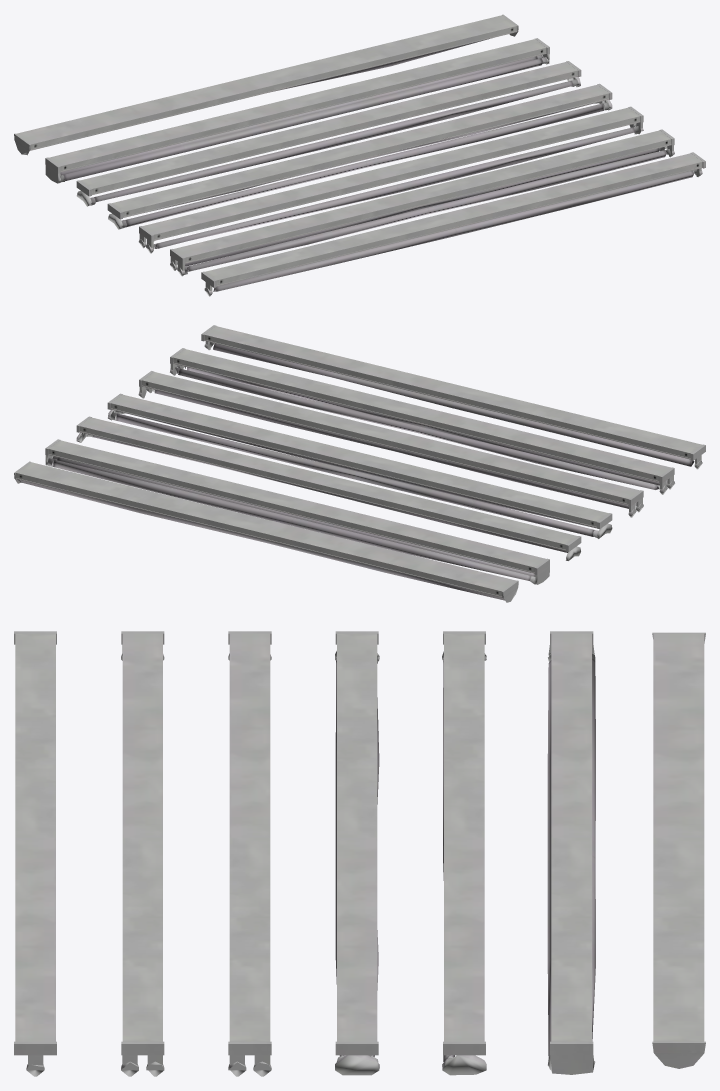
File: fluorescent.glb
3 views of the same model, one above another, from view 1: azimuth 30°, elevation 25°; view 2: azimuth 150°, elevation 25°; view 3: azimuth 270°, elevation 25° (orthographic). The views are drawn at different scales.
Visible parts, largest first — view 1: mounted_fluorescent_lights_b, mounted_fluorescent_lights_f, mounted_fluorescent_lights_d, mounted_fluorescent_lights_e, mounted_fluorescent_lights_c, mounted_fluorescent_lights_a, mounted_fluorescent_lights_g; view 2: mounted_fluorescent_lights_f, mounted_fluorescent_lights_b, mounted_fluorescent_lights_d, mounted_fluorescent_lights_a, mounted_fluorescent_lights_g, mounted_fluorescent_lights_c, mounted_fluorescent_lights_e; view 3: mounted_fluorescent_lights_g, mounted_fluorescent_lights_f, mounted_fluorescent_lights_d, mounted_fluorescent_lights_c, mounted_fluorescent_lights_e, mounted_fluorescent_lights_b, mounted_fluorescent_lights_a.
Part boxes in pixels (x1,y1,x2,y2): mounted_fluorescent_lights_b: (170,129,674,276); mounted_fluorescent_lights_f: (45,38,549,183); mounted_fluorescent_lights_d: (107,83,612,229); mounted_fluorescent_lights_e: (76,61,581,206); mounted_fluorescent_lights_c: (138,106,643,253); mounted_fluorescent_lights_a: (201,152,705,296); mounted_fluorescent_lights_g: (14,14,518,155); mounted_fluorescent_lights_f: (45,439,549,584); mounted_fluorescent_lights_b: (170,348,674,494); mounted_fluorescent_lights_d: (107,393,612,538); mounted_fluorescent_lights_a: (201,325,705,469); mounted_fluorescent_lights_g: (14,461,518,602); mounted_fluorescent_lights_c: (138,371,643,517); mounted_fluorescent_lights_e: (76,416,581,560); mounted_fluorescent_lights_g: (652,632,705,1068); mounted_fluorescent_lights_f: (547,631,595,1074); mounted_fluorescent_lights_d: (335,631,379,1075); mounted_fluorescent_lights_c: (228,631,271,1076); mounted_fluorescent_lights_e: (442,631,486,1075); mounted_fluorescent_lights_b: (121,631,164,1076); mounted_fluorescent_lights_a: (14,631,56,1076).
Bounding box in the file's own units: 0.9122 × 0.0352 × 0.6454.
Materials: 2 (2 with a texture image).
